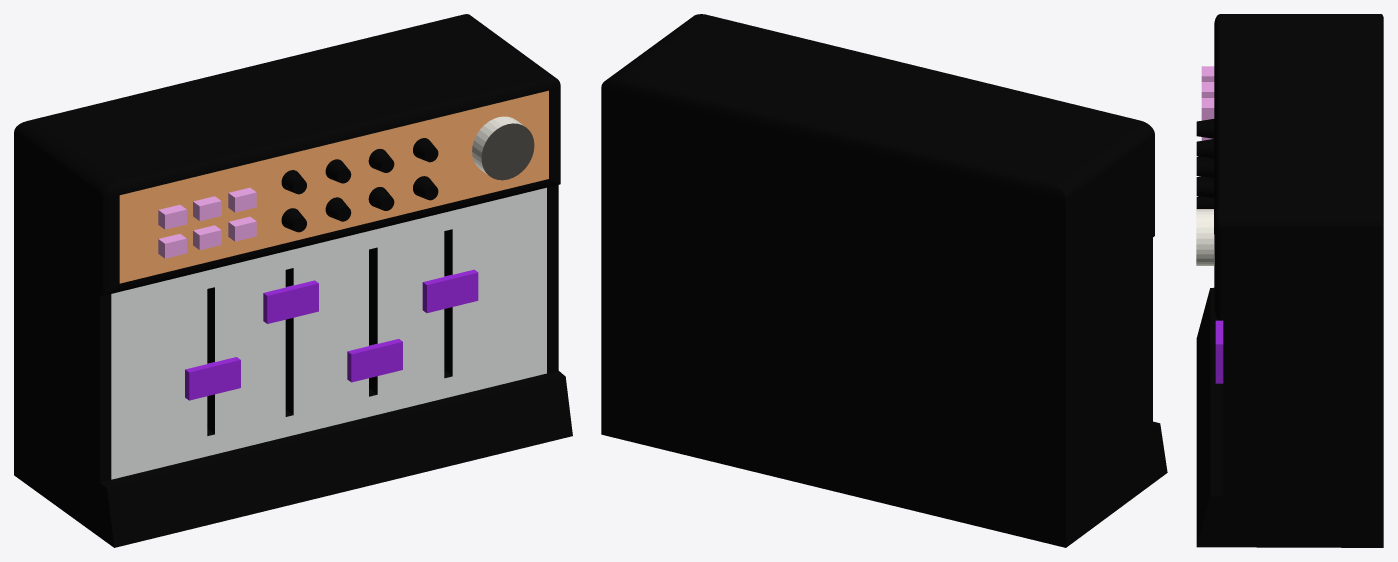
Rendered from mixer4Unico (1).fbx.
The picture shows the model from 3 angles, left to right: view 1: azimuth 30°, elevation 25°; view 2: azimuth 150°, elevation 25°; view 3: azimuth 270°, elevation 25°; orthographic projection. The views are drawn at different scales.
Parts seen in each view (by area): view 1: Cube.004; view 2: Cube.004; view 3: Cube.004.
Part boxes in pixels (x1,y1,x2,y2): Cube.004: (14, 14, 572, 547); Cube.004: (601, 14, 1167, 547); Cube.004: (1196, 14, 1383, 547).
Bounding box in the file's own units: 193 × 143 × 73.45.
